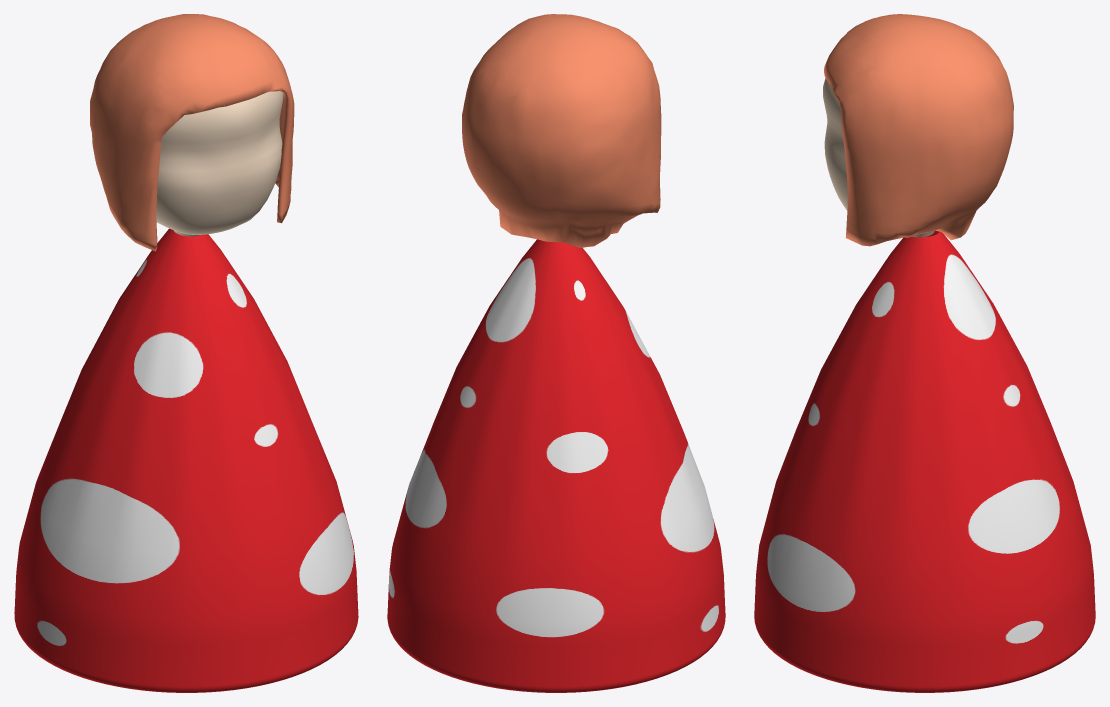
Rendered from Old.fbx.
3 renders of one model, left to right at view 1: azimuth 30°, elevation 25°; view 2: azimuth 150°, elevation 25°; view 3: azimuth 270°, elevation 25°, orthographic.
Parts seen in each view (by area): view 1: Lathe, hairrrr, Sphere; view 2: Lathe, hairrrr; view 3: Lathe, hairrrr, Sphere.
Boxes of the visible parts, x1,y1,x2,y2 form: Lathe: (14,228,358,692); hairrrr: (90,14,294,251); Sphere: (156,91,283,236); Lathe: (387,239,725,692); hairrrr: (462,14,661,247); Lathe: (754,230,1095,692); hairrrr: (824,14,1013,246); Sphere: (823,78,934,237).
Size of the model in its own units: 322 by 624 by 322.
Materials: 3 (1 with a texture image).
